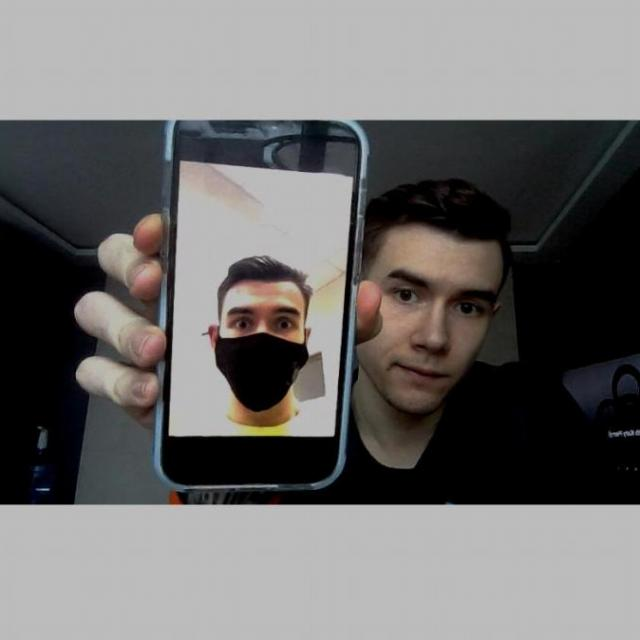device: (142, 120, 366, 500)
live: (370, 238, 499, 418)
